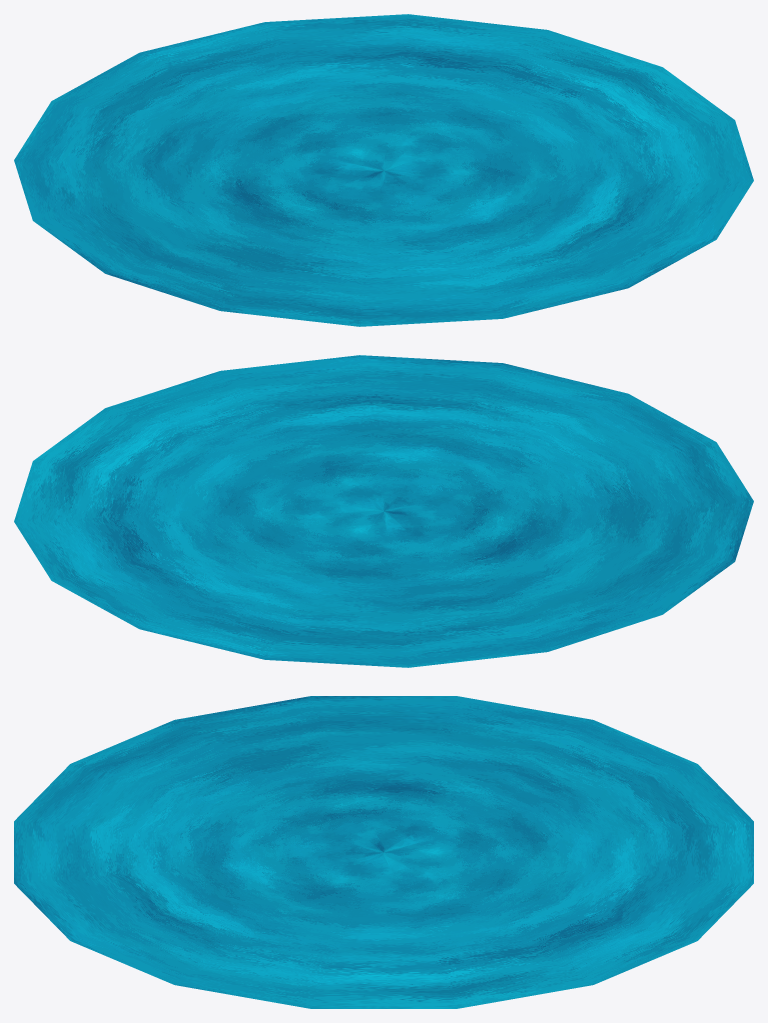
File: Water_Circle_1_Lowpoly.glb
The picture shows the model from 3 angles, top to bottom: view 1: azimuth 30°, elevation 25°; view 2: azimuth 150°, elevation 25°; view 3: azimuth 270°, elevation 25°; orthographic projection.
Parts seen in each view (by area): view 1: Water_Circle_1_Lowpoly; view 2: Water_Circle_1_Lowpoly; view 3: Water_Circle_1_Lowpoly.
Boxes of the visible parts, x1=… form: Water_Circle_1_Lowpoly: x1=14, y1=14, x2=753, y2=326; Water_Circle_1_Lowpoly: x1=14, y1=355, x2=753, y2=667; Water_Circle_1_Lowpoly: x1=14, y1=696, x2=753, y2=1008.
Size of the model in its own units: 40 by 1.62e-12 by 40.
1 material, 1 textured.
